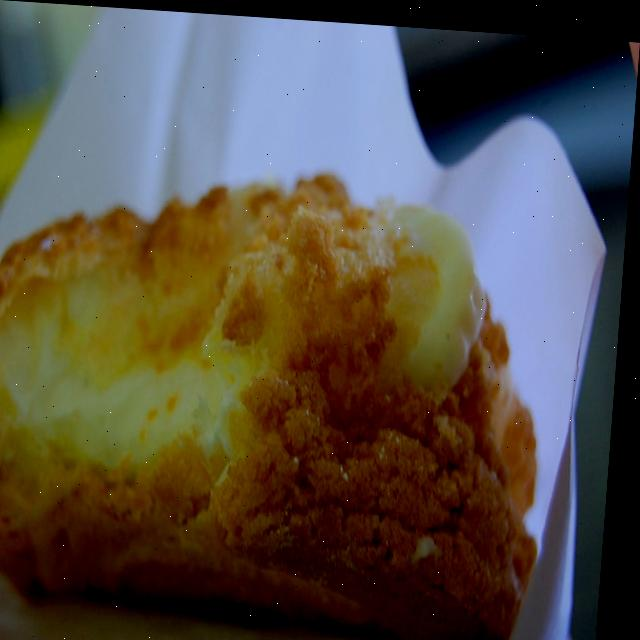炸货点心: (0, 0, 630, 640)
蛋糕甜品: (0, 0, 630, 640)
